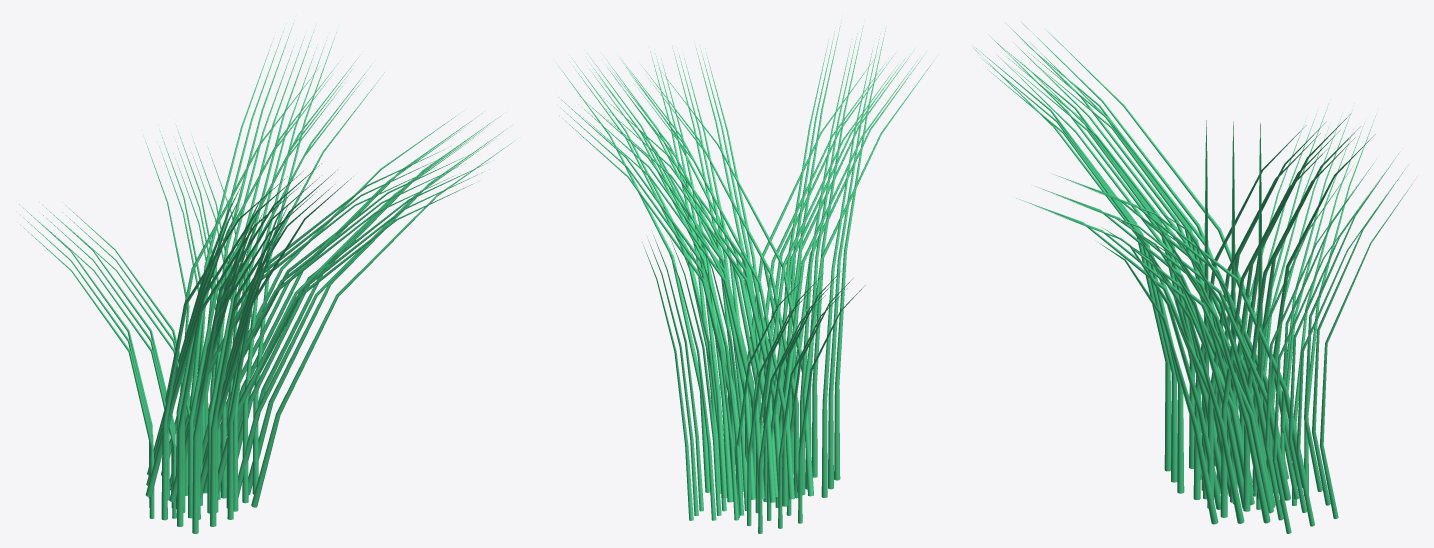
File: grass.gltf
The picture shows the model from 3 angles, left to right: view 1: azimuth 30°, elevation 25°; view 2: azimuth 150°, elevation 25°; view 3: azimuth 270°, elevation 25°; orthographic projection. The views are drawn at different scales.
Parts seen in each view (by area): view 1: 圆锥体 2 (×7), 圆锥体 1 (×6), 圆锥体 0 (×6), 圆锥体 8 (×6), 圆锥体 5 (×5), 圆锥体 7 (×6), 圆锥体 4 (×4), 圆锥体 6 (×4), 圆锥体 3 (×4); view 2: 圆锥体 0 (×8), 圆锥体 8 (×8), 圆锥体 3 (×8), 圆锥体 7 (×8), 圆锥体 6 (×7), 圆锥体 5 (×8), 圆锥体 1 (×7), 圆锥体 2 (×7), 圆锥体 4 (×7); view 3: 圆锥体 2 (×8), 圆锥体 5 (×8), 圆锥体 8 (×7), 圆锥体 1 (×7), 圆锥体 7 (×6), 圆锥体 0 (×6), 圆锥体 4 (×6), 圆锥体 6 (×6), 圆锥体 3 (×6).
Boxes of the visible parts, box(x1,y1,x2,y2) form: 圆锥体 2 (×7): box(19, 32, 515, 533); 圆锥体 1 (×6): box(146, 40, 496, 526); 圆锥体 0 (×6): box(147, 47, 473, 520); 圆锥体 8 (×6): box(20, 23, 501, 519); 圆锥体 5 (×5): box(16, 126, 510, 526); 圆锥体 7 (×6): box(40, 30, 482, 518); 圆锥体 4 (×4): box(195, 36, 486, 519); 圆锥体 6 (×4): box(165, 38, 459, 505); 圆锥体 3 (×4): box(175, 45, 467, 512); 圆锥体 0 (×8): box(600, 44, 897, 517); 圆锥体 8 (×8): box(558, 20, 914, 523); 圆锥体 3 (×8): box(599, 39, 886, 513); 圆锥体 7 (×8): box(573, 31, 895, 515); 圆锥体 6 (×7): box(589, 39, 874, 510); 圆锥体 5 (×8): box(560, 25, 923, 528); 圆锥体 1 (×7): box(579, 33, 917, 526); 圆锥体 2 (×7): box(558, 28, 934, 533); 圆锥体 4 (×7): box(578, 33, 904, 520); 圆锥体 2 (×8): box(972, 22, 1415, 524); 圆锥体 5 (×8): box(981, 34, 1406, 523); 圆锥体 8 (×7): box(972, 47, 1398, 523); 圆锥体 1 (×7): box(998, 21, 1391, 526); 圆锥体 7 (×6): box(996, 54, 1374, 507); 圆锥体 0 (×6): box(1045, 29, 1366, 533); 圆锥体 4 (×6): box(1003, 42, 1383, 512); 圆锥体 6 (×6): box(1020, 61, 1350, 505); 圆锥体 3 (×6): box(1029, 41, 1357, 520).
Bounding box in the file's own units: 530 × 512 × 451.
